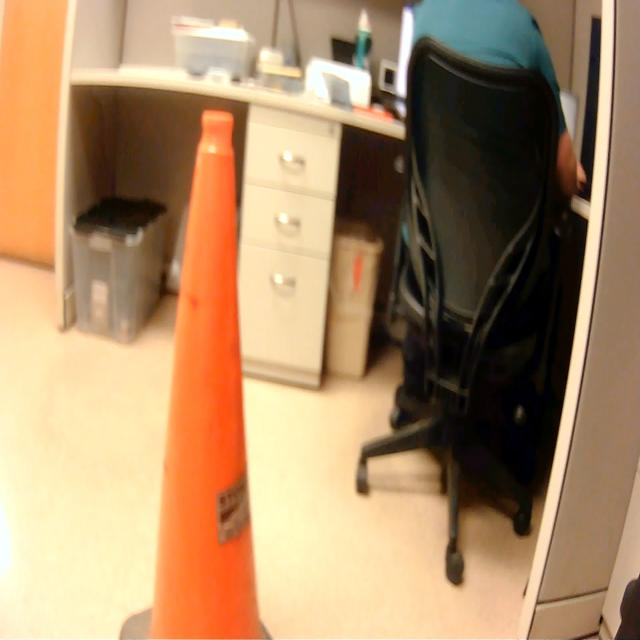traffic cone: (117, 102, 283, 640)
